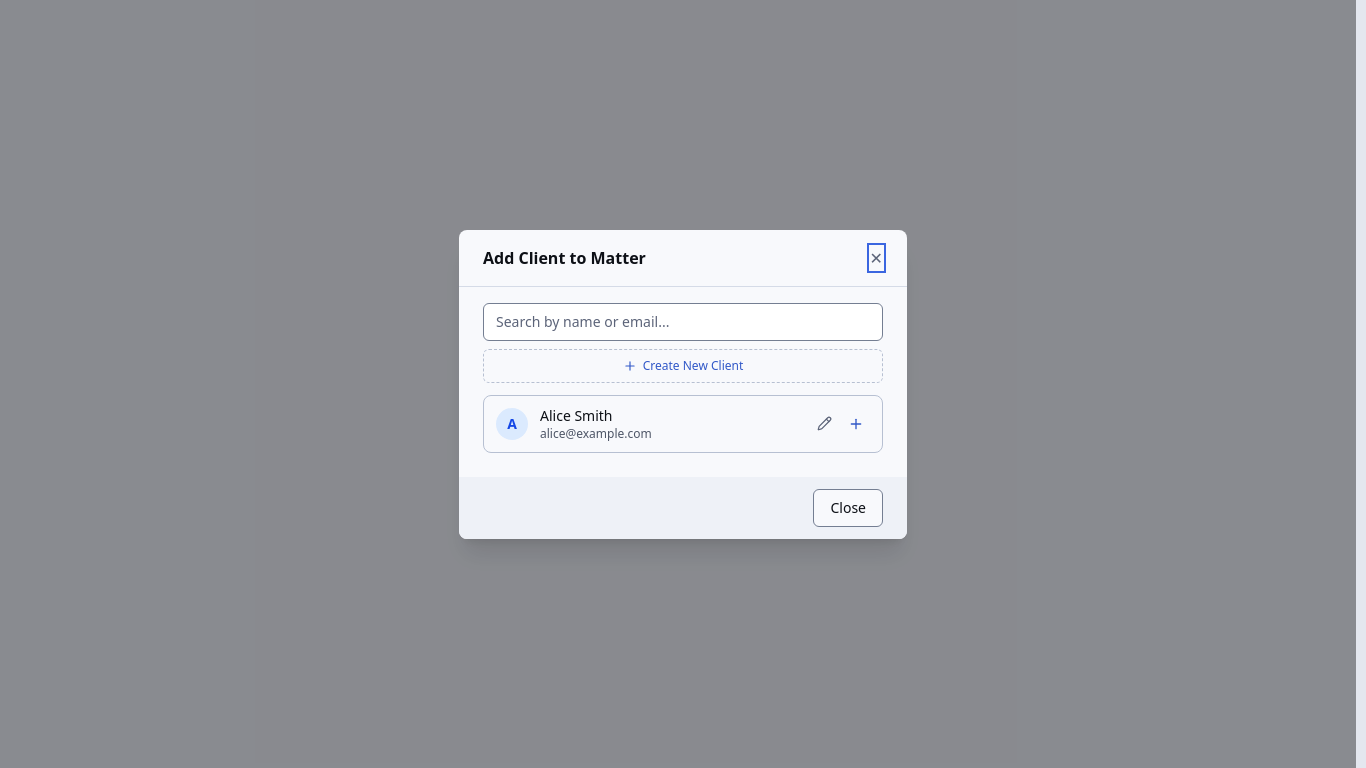
Test case: editing a client from the attach modal › does not offer the portal invite, since saving an edit sends none
Step 1. Click the button named "Edit Client" → (824, 424), box [811,410,838,437]
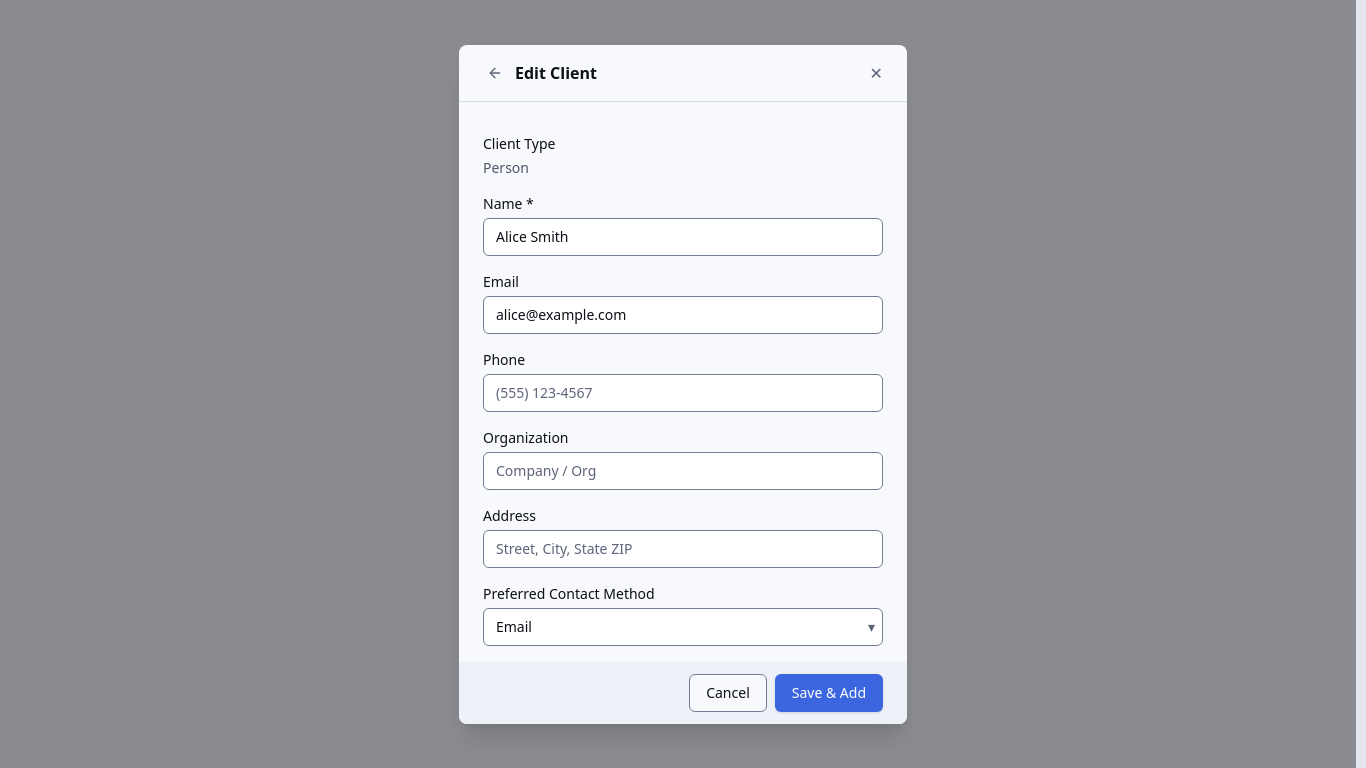
Check: the button "Save & Add" is shown, box [775,674,883,712]
